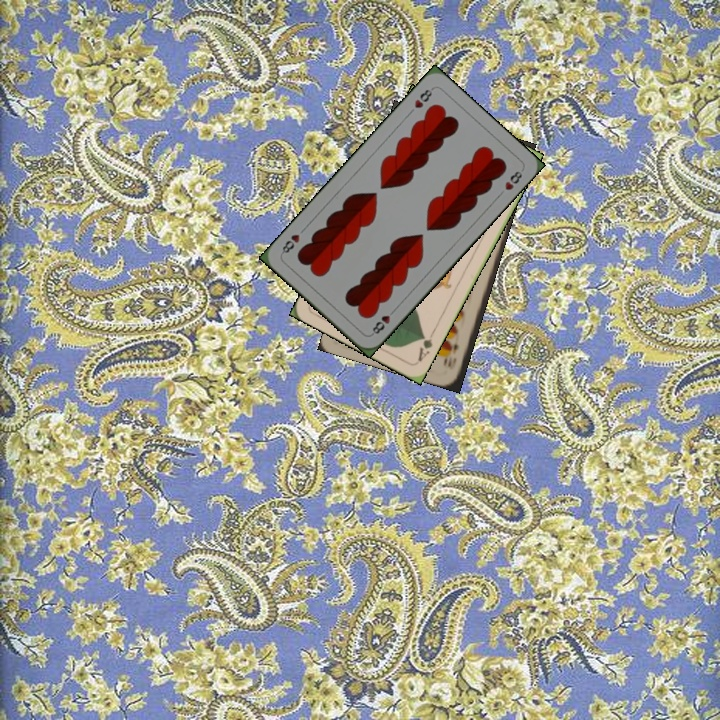E10: (444, 340, 460, 372)
GA: (414, 327, 437, 364)
H8: (367, 305, 398, 338), (410, 84, 436, 111)
